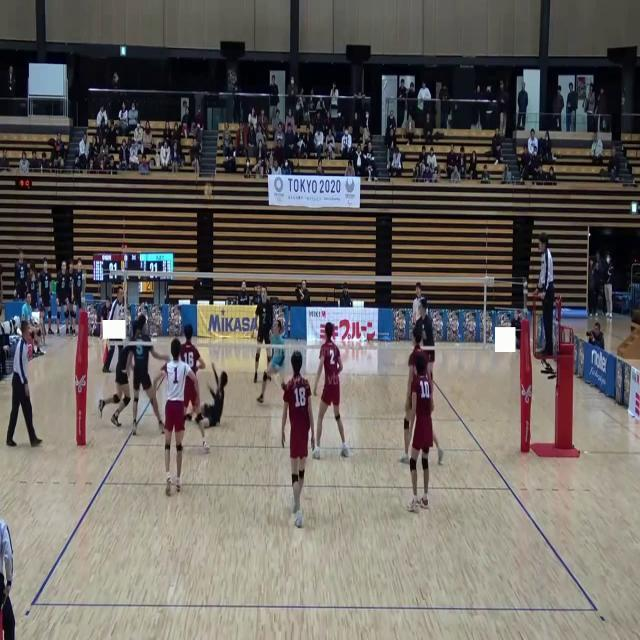volleyball: (204, 184, 213, 200)
